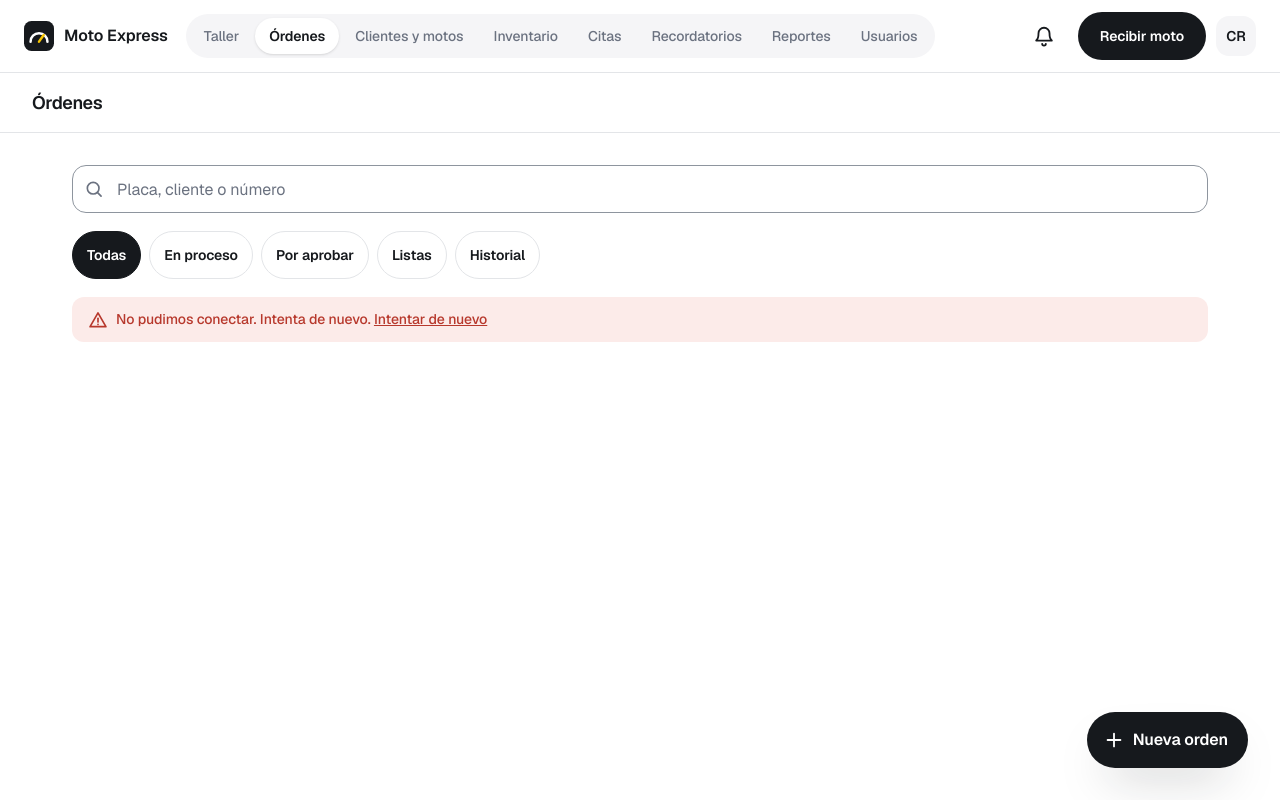
Rutas y guardas (HU-11, HU-22) › en computador, «Mi cuenta» y «Cerrar sesión» están en el menú del avatar; en celular, en «Más» (HU-44)
The image size is (1280, 800).
Expected: the heading "Órdenes" is shown, left=32, top=90, right=102, bottom=114
Click the button with aria-label "Cuenta de".
click(1236, 36)  # box left=1216, top=16, right=1256, bottom=56
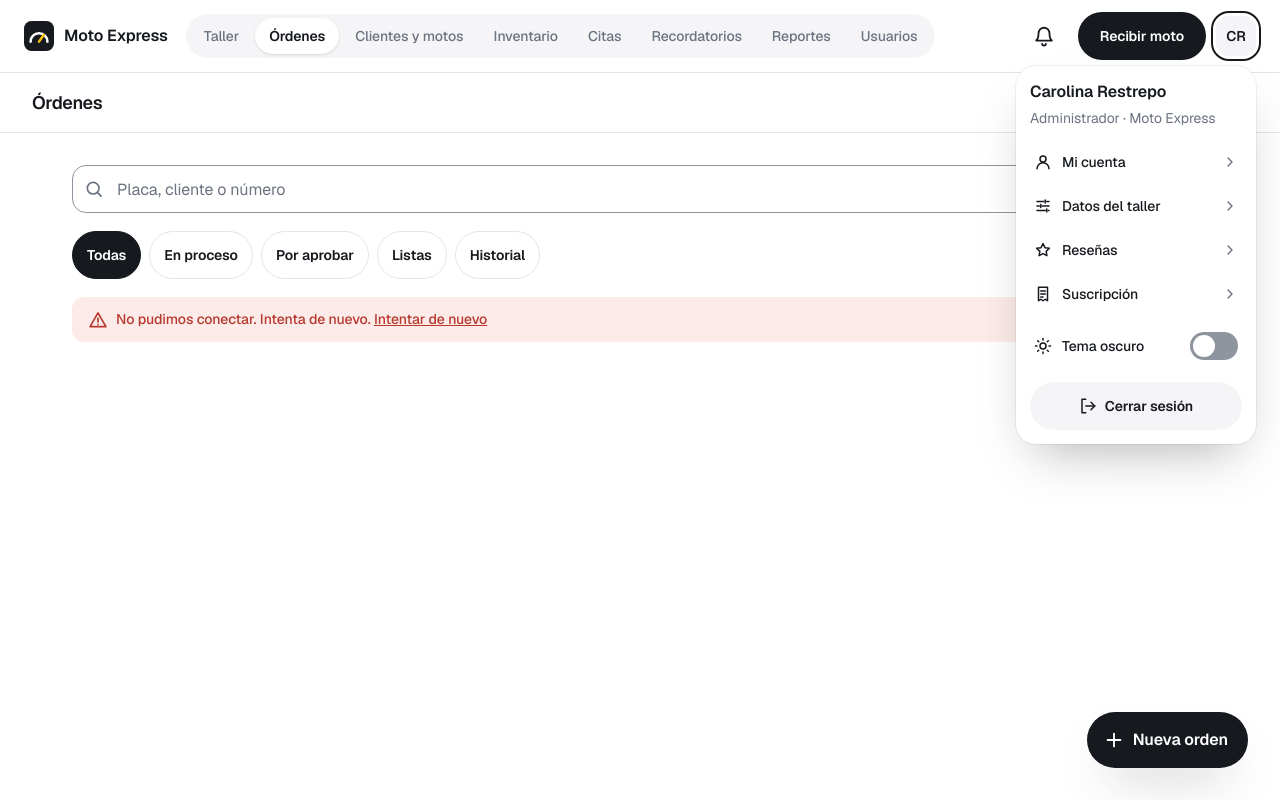
Expected: the button "Cerrar sesión" is shown, left=1030, top=382, right=1242, bottom=430
